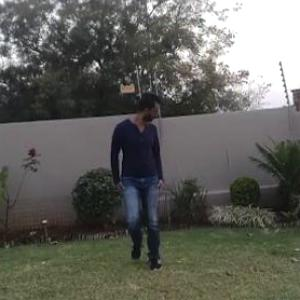follow: (111, 84, 175, 286)
